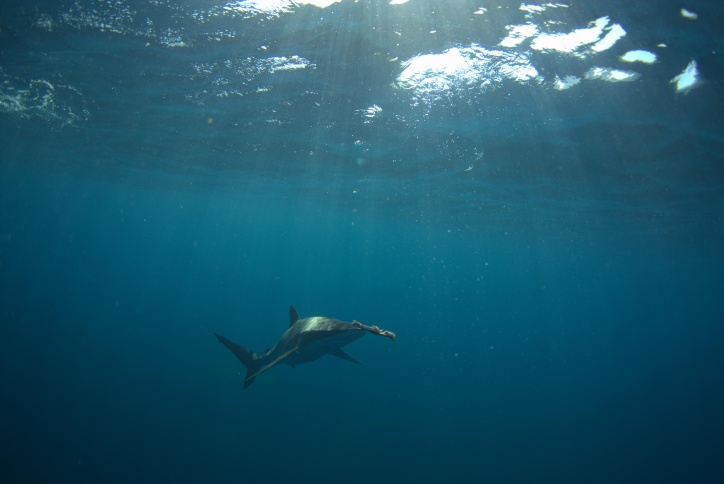Sedoso: (199, 293, 397, 411)
